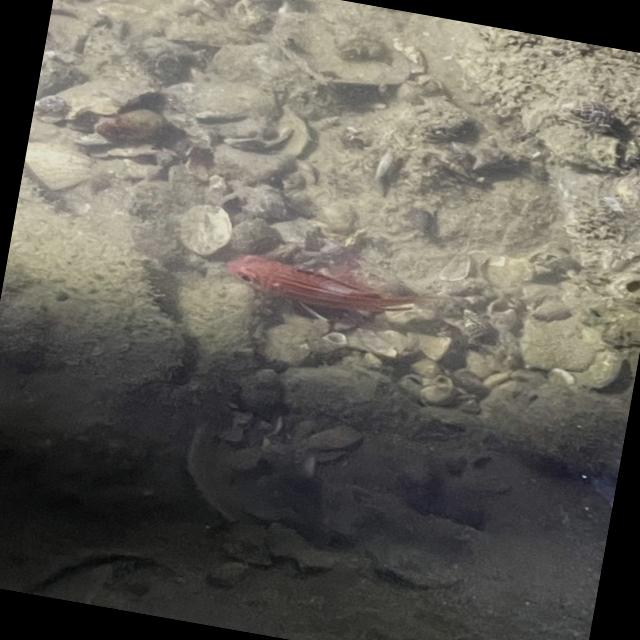Asker Baligi: (216, 244, 422, 334)
